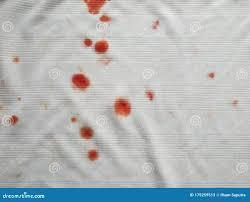blood: (83, 1, 113, 23), (84, 38, 108, 53), (114, 98, 131, 116), (72, 73, 90, 89), (79, 127, 93, 138), (87, 147, 98, 161), (8, 114, 19, 127), (146, 89, 153, 101), (71, 116, 78, 122)
